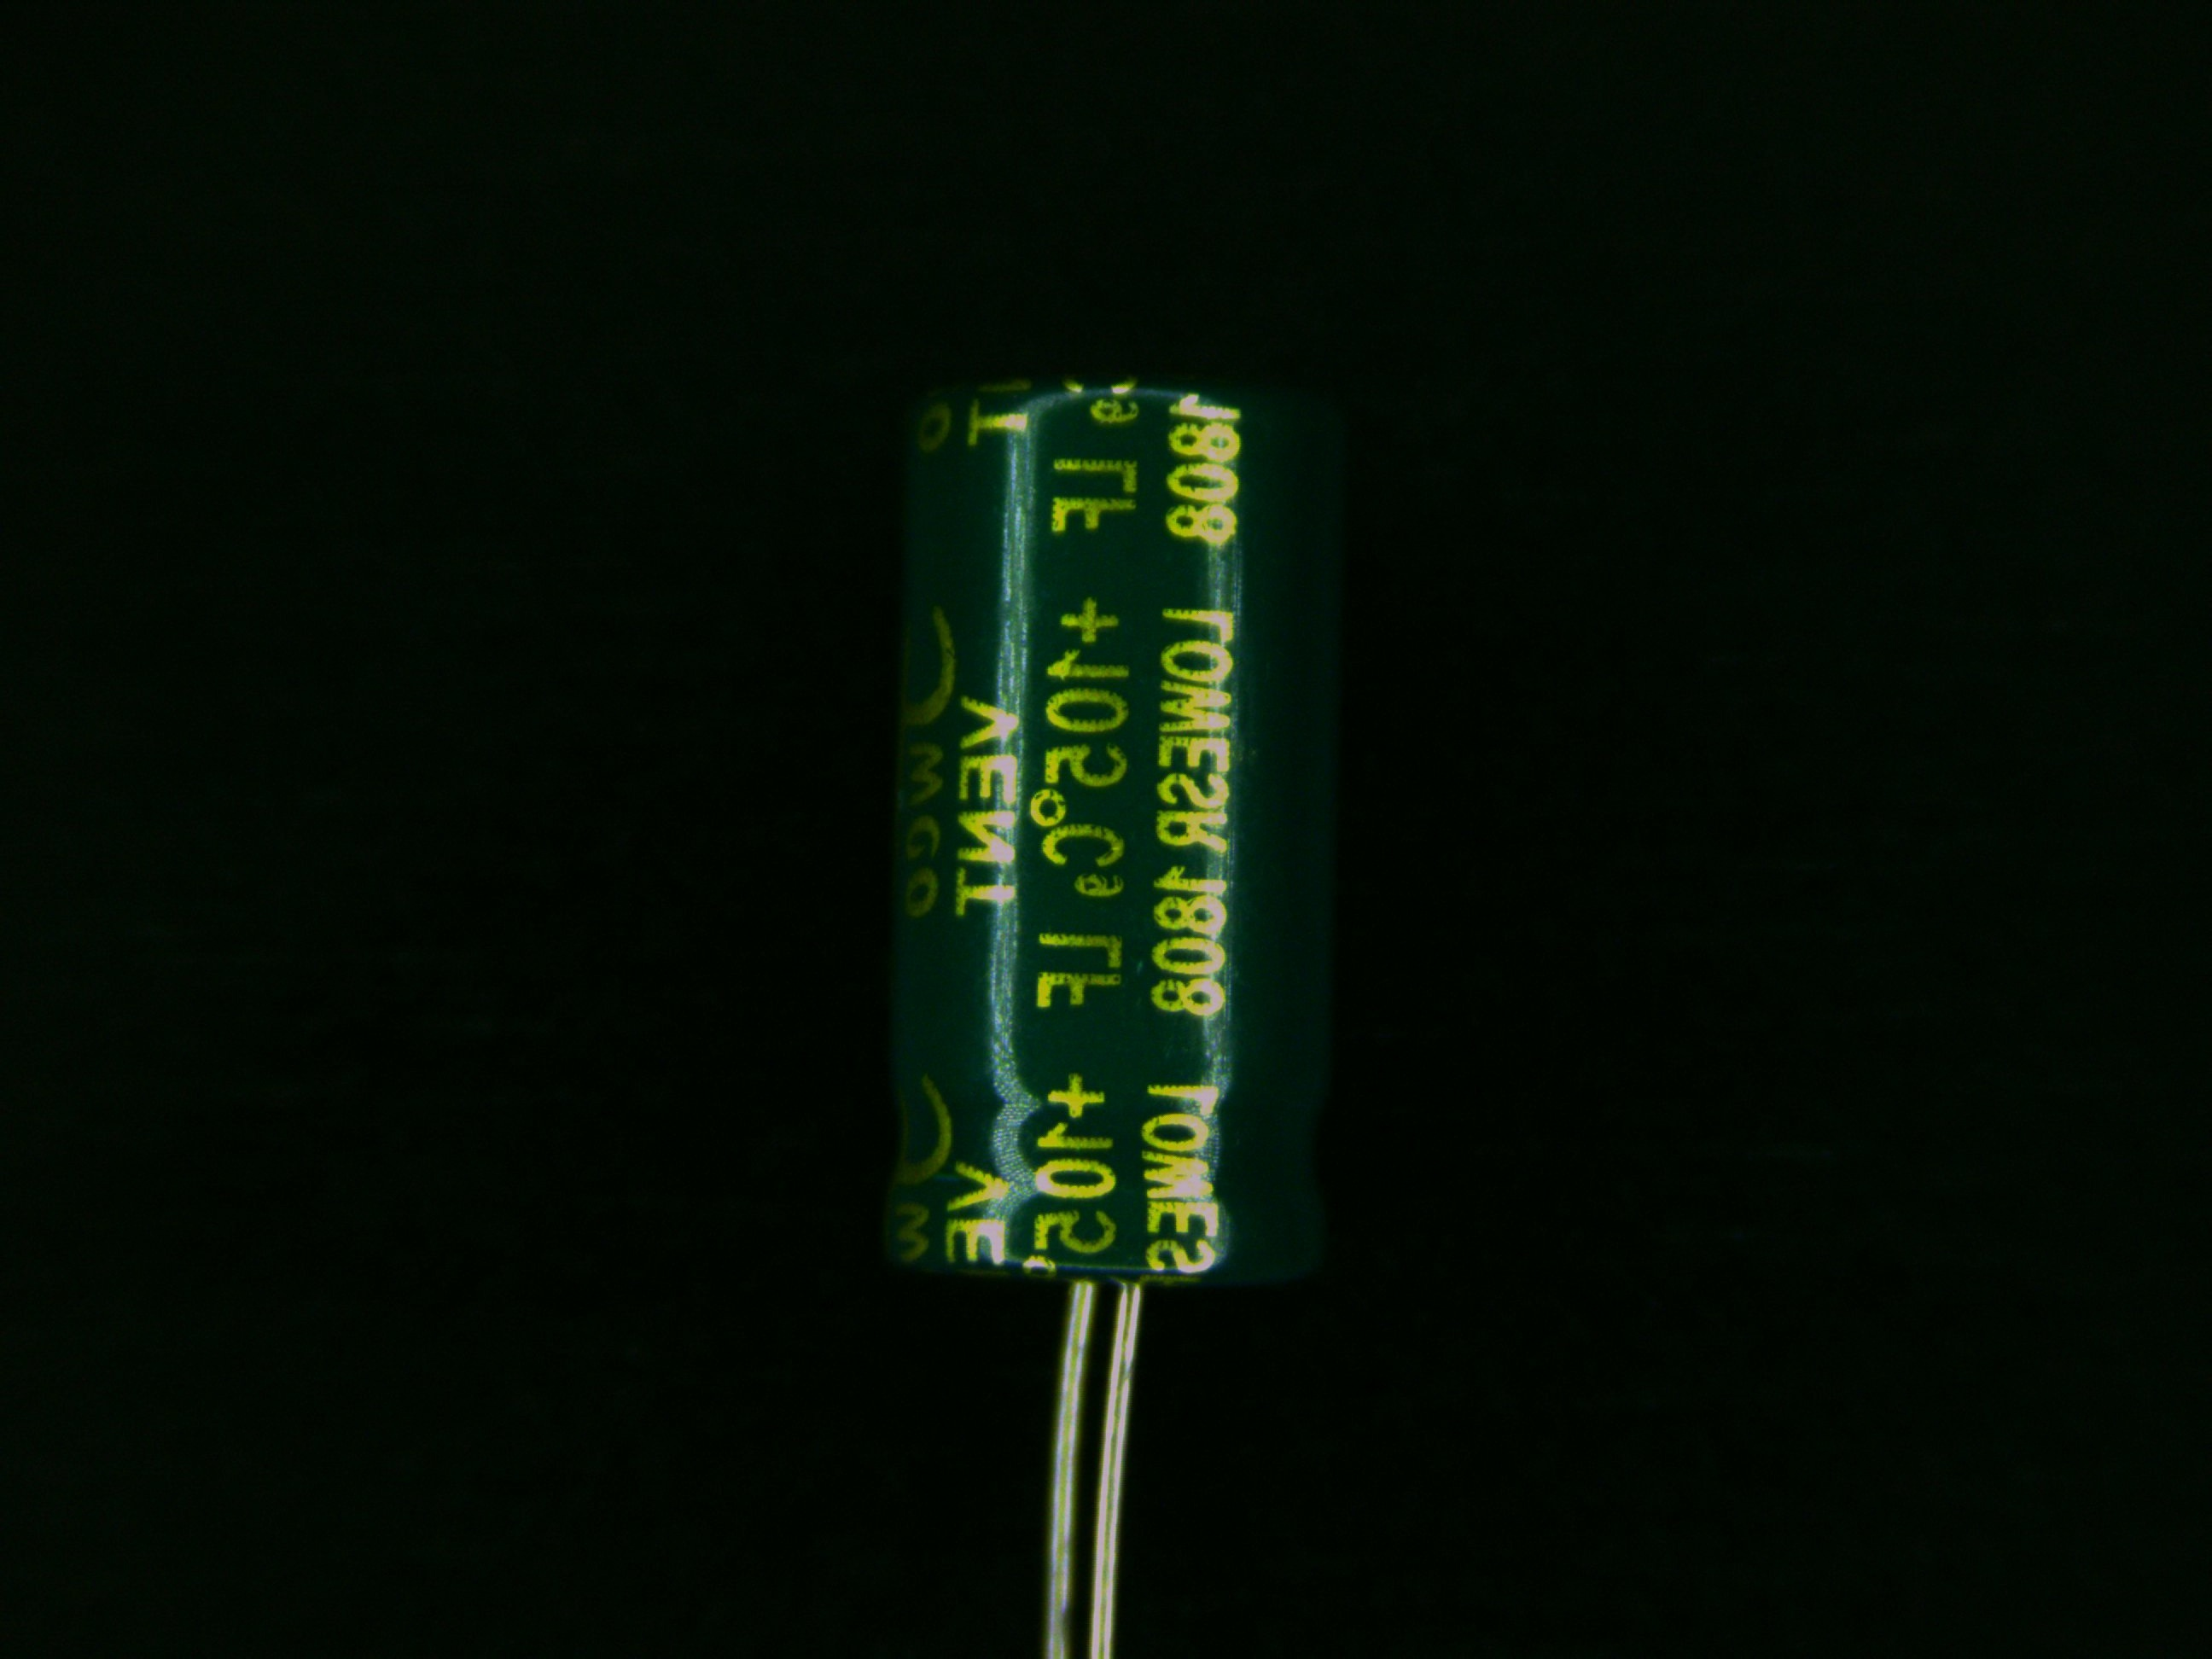c1: (871, 382, 1346, 1373)
